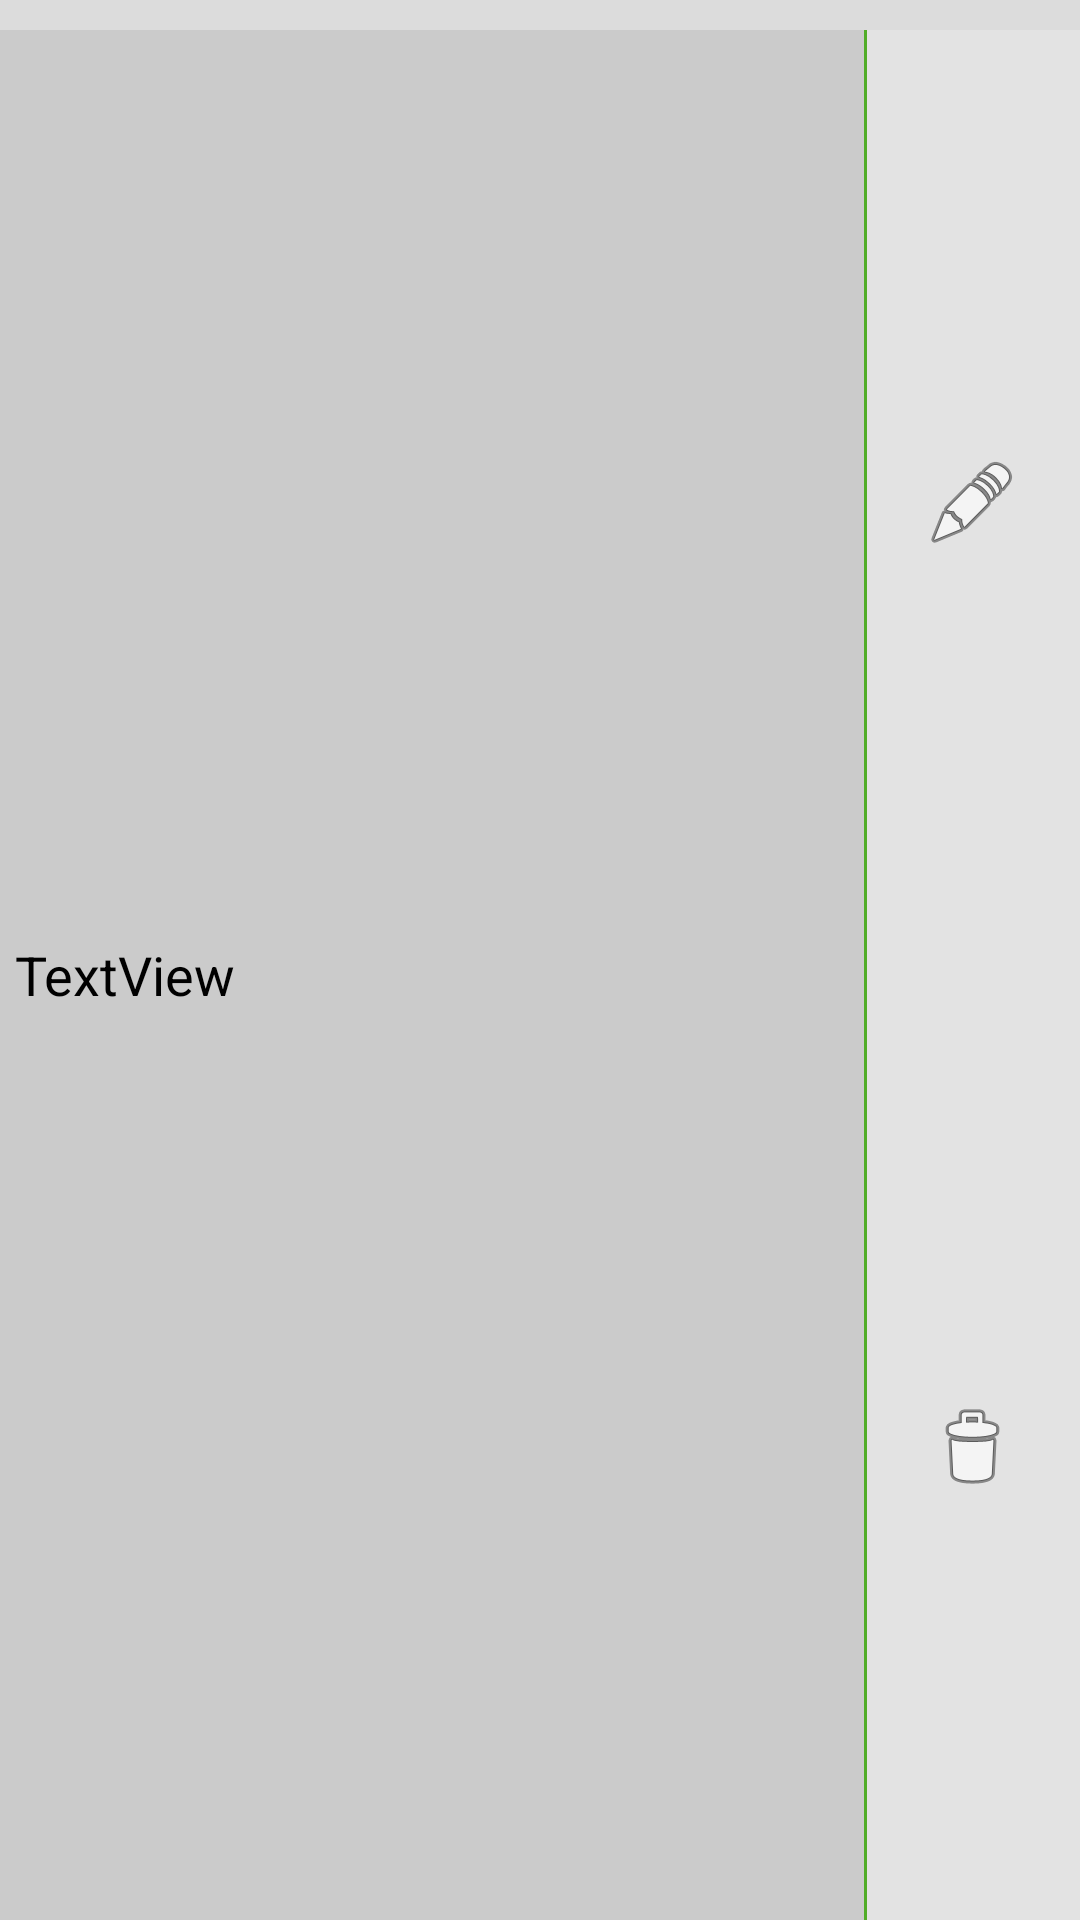

Icon click points for this 1080px×1920px phone screenshot, format point (x, y):
delete: point (972, 1446)
